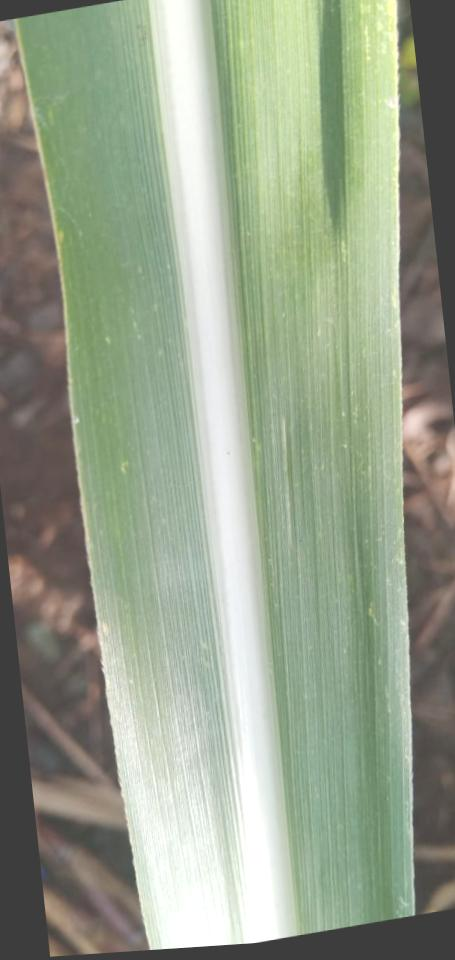Healthy: (15, 0, 412, 950)
